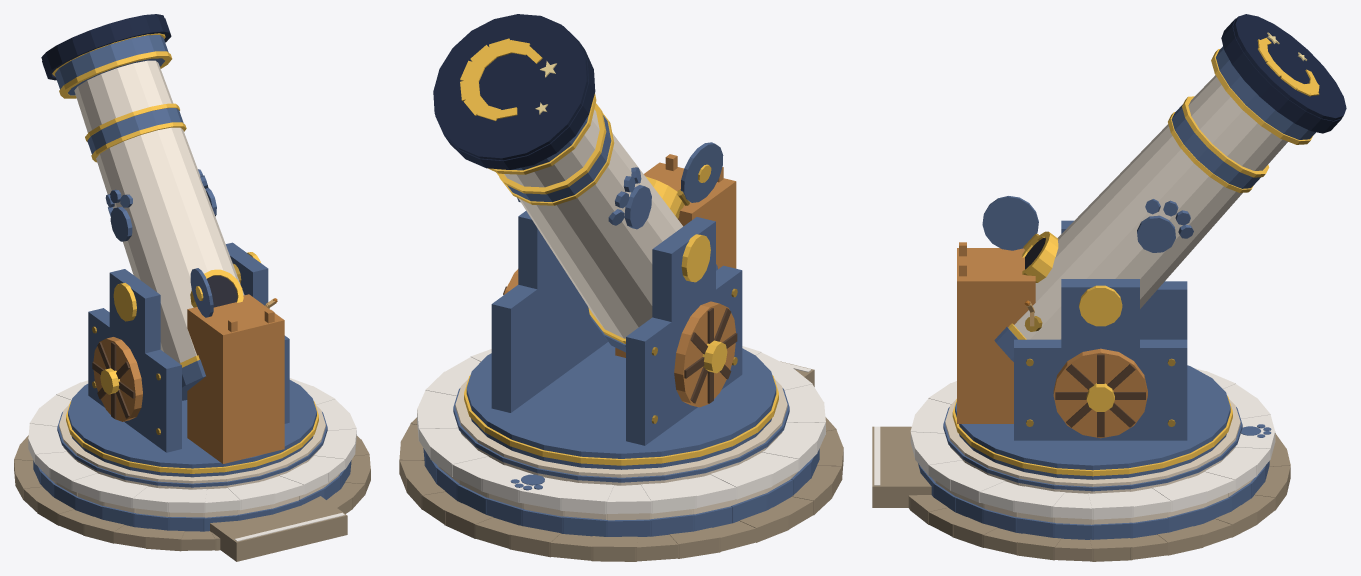
The model's file is CatCafe_Camp_Cannon_Sewer.glb.
3 views of the same model, side by side, from view 1: azimuth 30°, elevation 25°; view 2: azimuth 150°, elevation 25°; view 3: azimuth 270°, elevation 25° (orthographic). The views are drawn at different scales.
Visible parts, largest first — view 1: CatCafe_Camp_Cannon_Sewer_Turret, CatCafe_Camp_Cannon_Sewer, CatCafe_Camp_Cannon_Sewer_Climb, CatCafe_Camp_Cannon_Sewer_MoonCover; view 2: CatCafe_Camp_Cannon_Sewer_Turret, CatCafe_Camp_Cannon_Sewer, CatCafe_Camp_Cannon_Sewer_MoonCover, CatCafe_Camp_Cannon_Sewer_Climb; view 3: CatCafe_Camp_Cannon_Sewer_Turret, CatCafe_Camp_Cannon_Sewer, CatCafe_Camp_Cannon_Sewer_Climb, CatCafe_Camp_Cannon_Sewer_MoonCover.
Part boxes in pixels (<box>): CatCafe_Camp_Cannon_Sewer_Turret: <box>52,33,318,477</box>; CatCafe_Camp_Cannon_Sewer: <box>14,378,370,561</box>; CatCafe_Camp_Cannon_Sewer_Climb: <box>187,294,284,463</box>; CatCafe_Camp_Cannon_Sewer_MoonCover: <box>41,14,171,80</box>; CatCafe_Camp_Cannon_Sewer_Turret: <box>464,94,778,469</box>; CatCafe_Camp_Cannon_Sewer: <box>399,346,843,561</box>; CatCafe_Camp_Cannon_Sewer_MoonCover: <box>433,14,595,169</box>; CatCafe_Camp_Cannon_Sewer_Climb: <box>615,162,736,357</box>; CatCafe_Camp_Cannon_Sewer_Turret: <box>952,46,1315,479</box>; CatCafe_Camp_Cannon_Sewer: <box>872,368,1290,561</box>; CatCafe_Camp_Cannon_Sewer_Climb: <box>957,248,1035,423</box>; CatCafe_Camp_Cannon_Sewer_MoonCover: <box>1221,14,1346,133</box>.
Size of the model in its own units: 7.54 by 9.55 by 9.03.
1 material, 1 textured.
